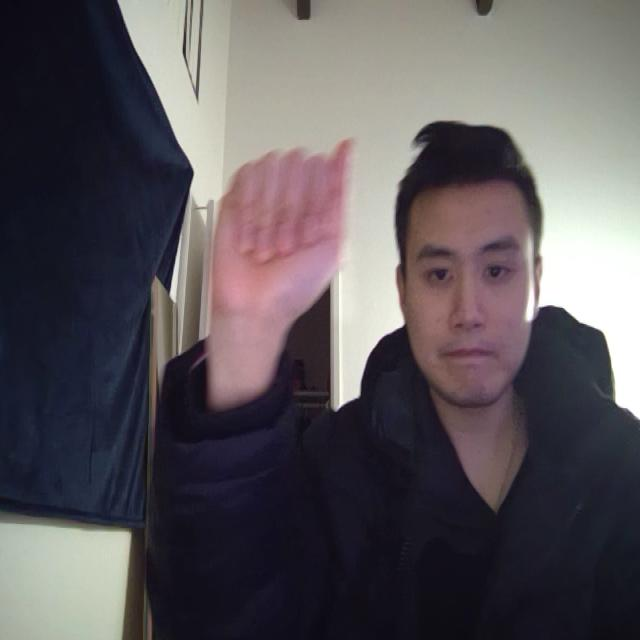A: (190, 120, 376, 393)
